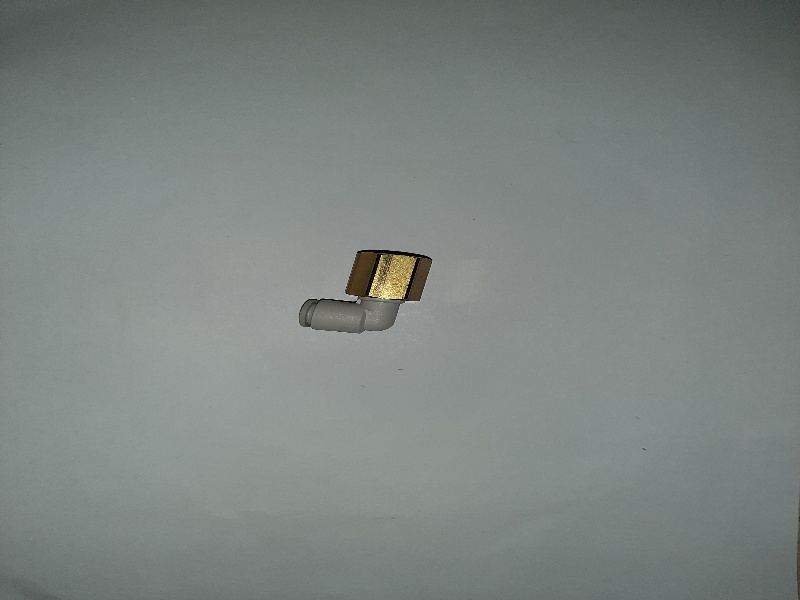Connector: (297, 235, 435, 335)
